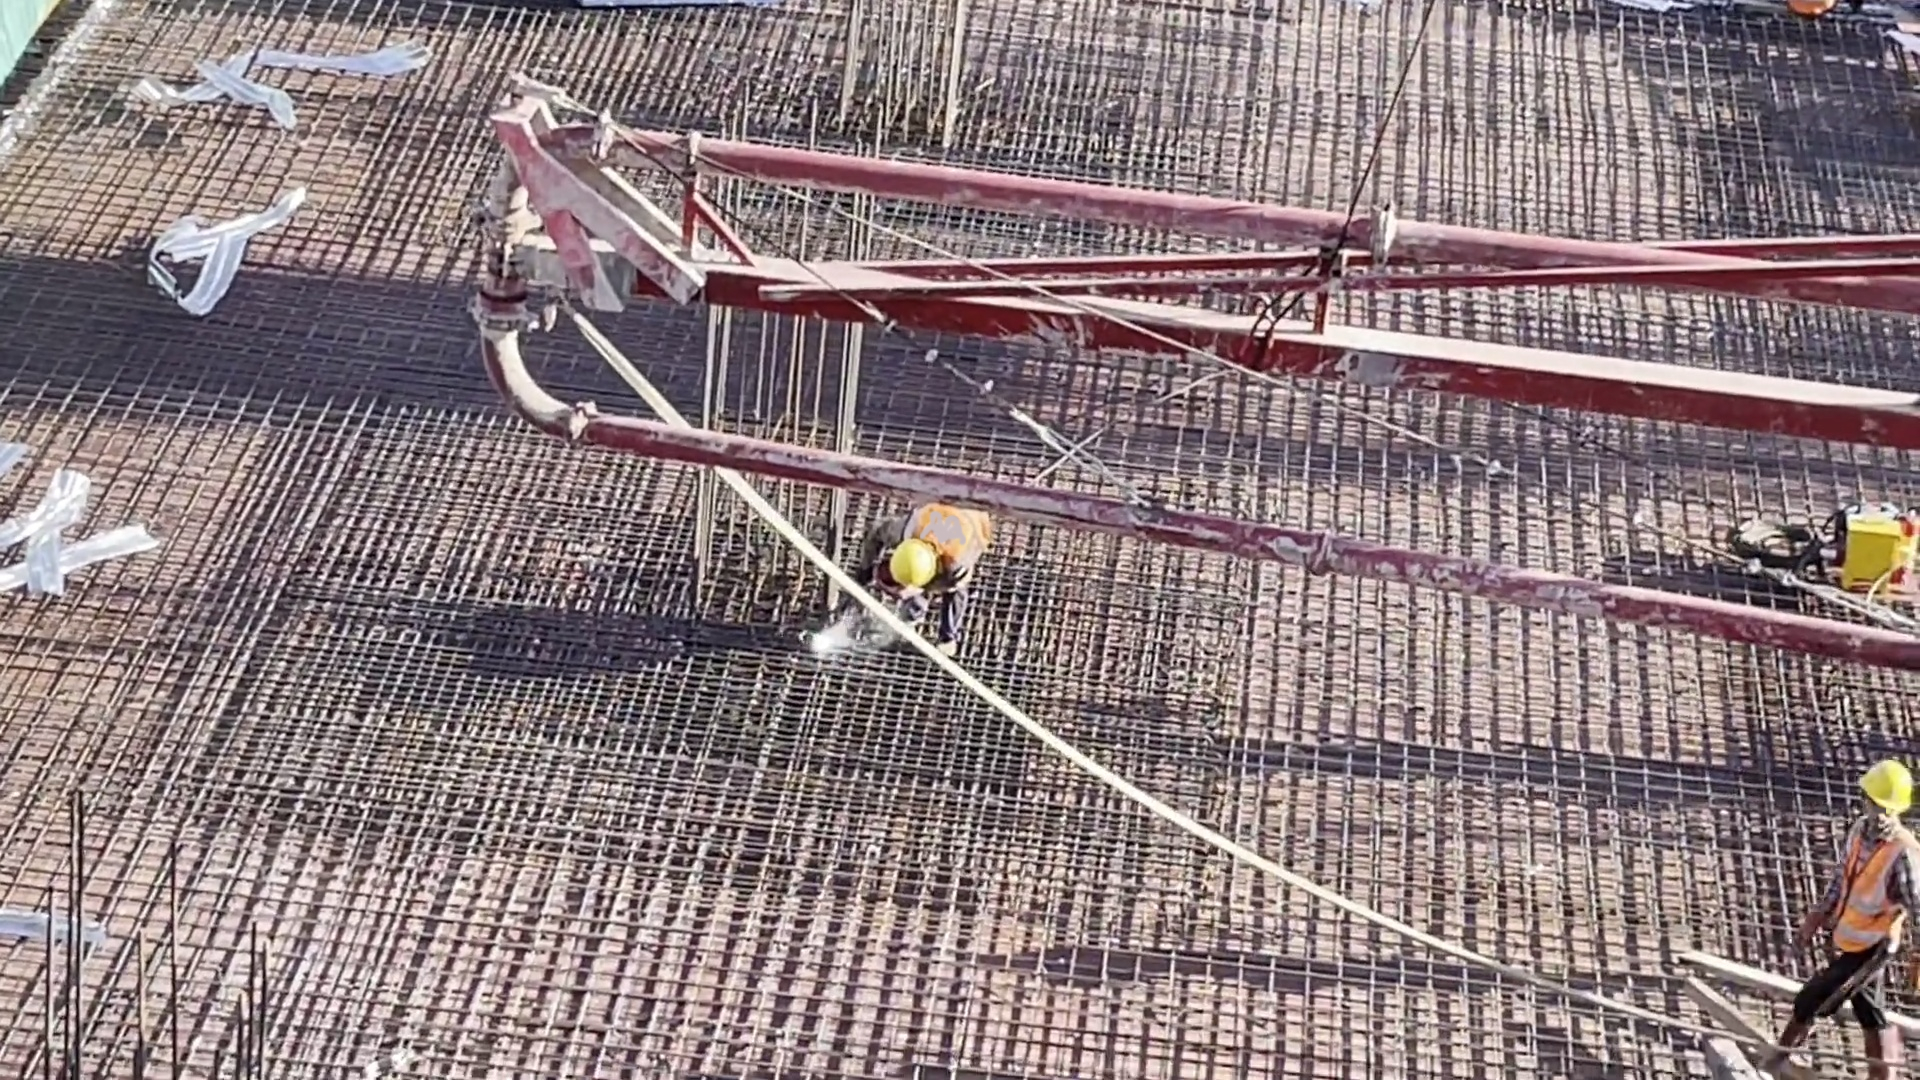helmet: (1856, 764, 1915, 816), (895, 541, 935, 595)
person: (1773, 760, 1920, 1080), (864, 506, 1003, 665)
vest: (1825, 832, 1915, 961), (912, 507, 996, 567)
